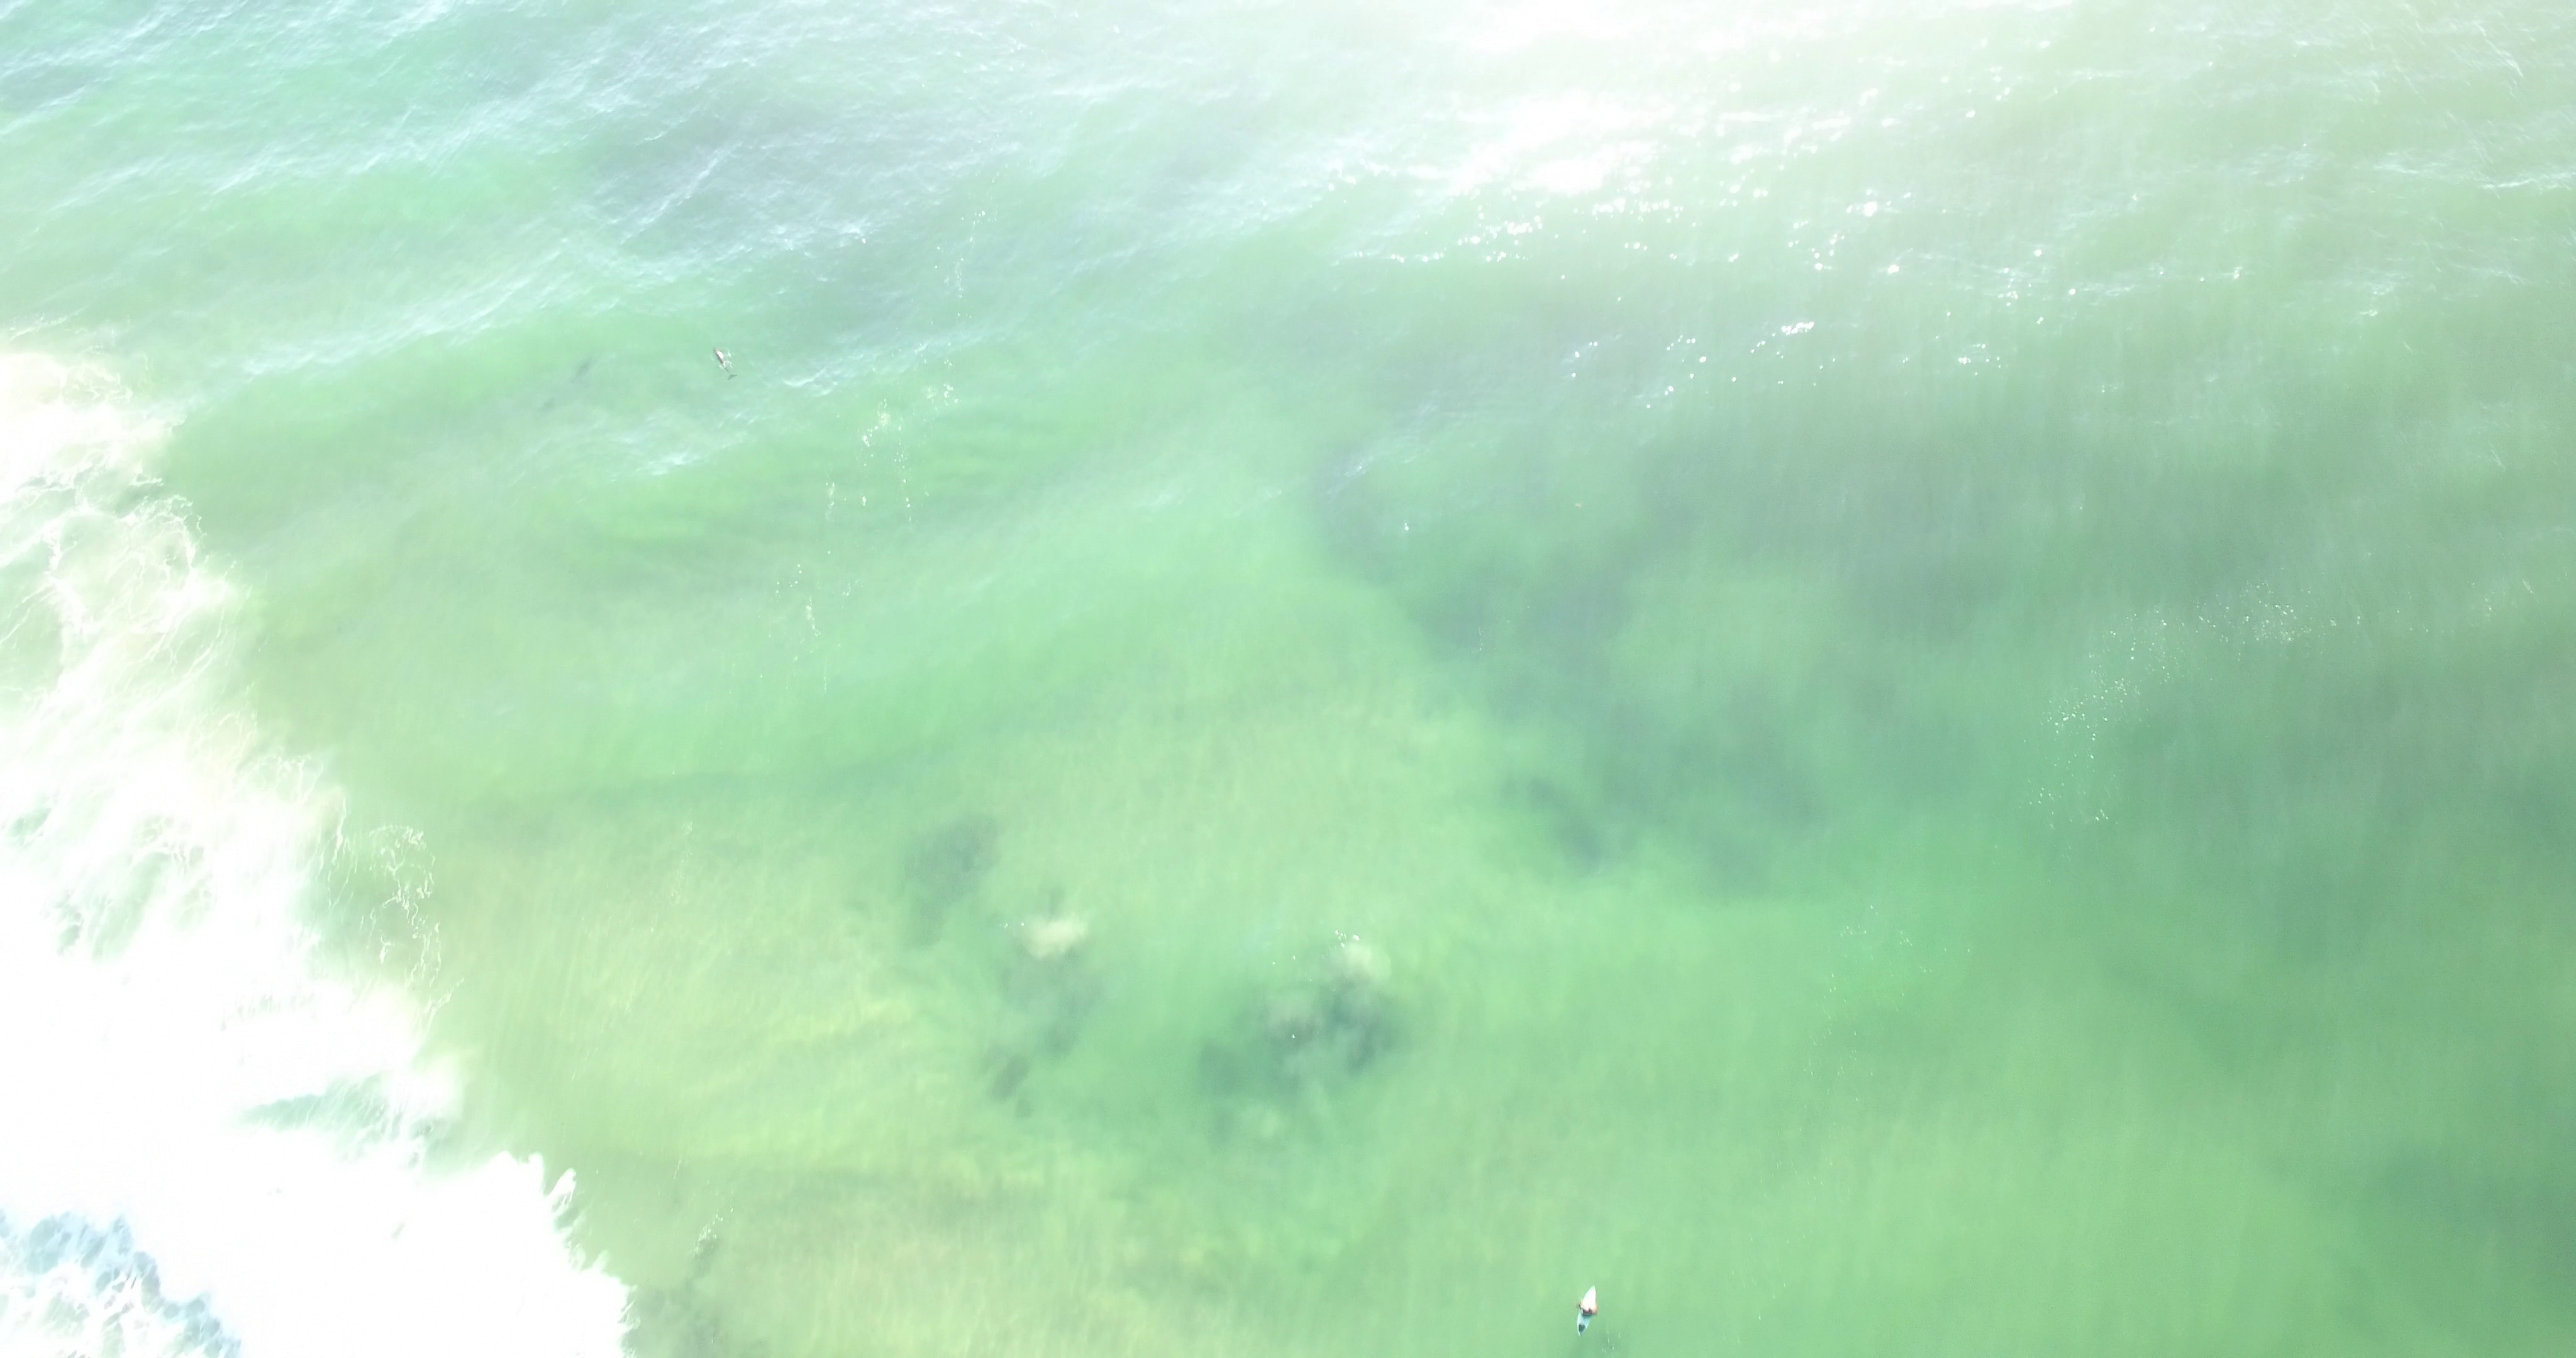dolphin: (707, 342, 736, 382)
surfer: (1573, 1283, 1600, 1338)
